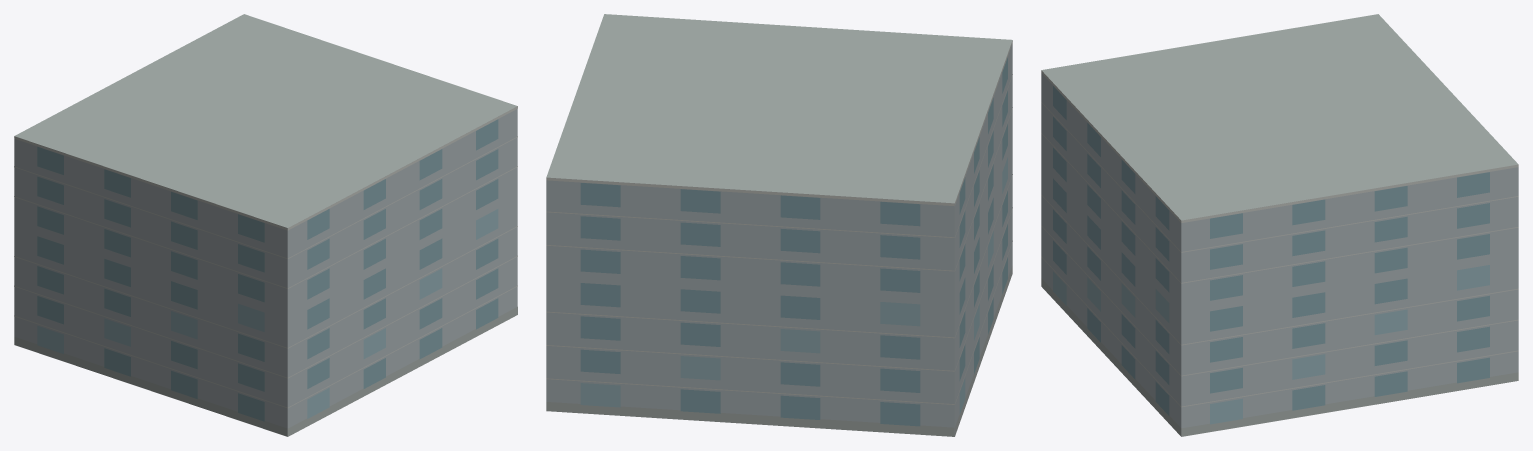
The model's file is residential-a7404cfe-6b6e-40d9-affe-f9dc2c784980.glb.
3 renders of one model, left to right at view 1: azimuth 30°, elevation 25°; view 2: azimuth 150°, elevation 25°; view 3: azimuth 270°, elevation 25°, orthographic. The views are drawn at different scales.
Visible parts, largest first — view 1: residential-a7404cfe-6b6e-40d9-affe-f9dc2c784980.tmp; view 2: residential-a7404cfe-6b6e-40d9-affe-f9dc2c784980.tmp; view 3: residential-a7404cfe-6b6e-40d9-affe-f9dc2c784980.tmp.
Part boxes in pixels (x1,y1,x2,y2): residential-a7404cfe-6b6e-40d9-affe-f9dc2c784980.tmp: (14, 14, 517, 436); residential-a7404cfe-6b6e-40d9-affe-f9dc2c784980.tmp: (546, 14, 1012, 436); residential-a7404cfe-6b6e-40d9-affe-f9dc2c784980.tmp: (1041, 14, 1518, 436).
Size of the model in its own units: 40.97 by 20 by 40.01.
